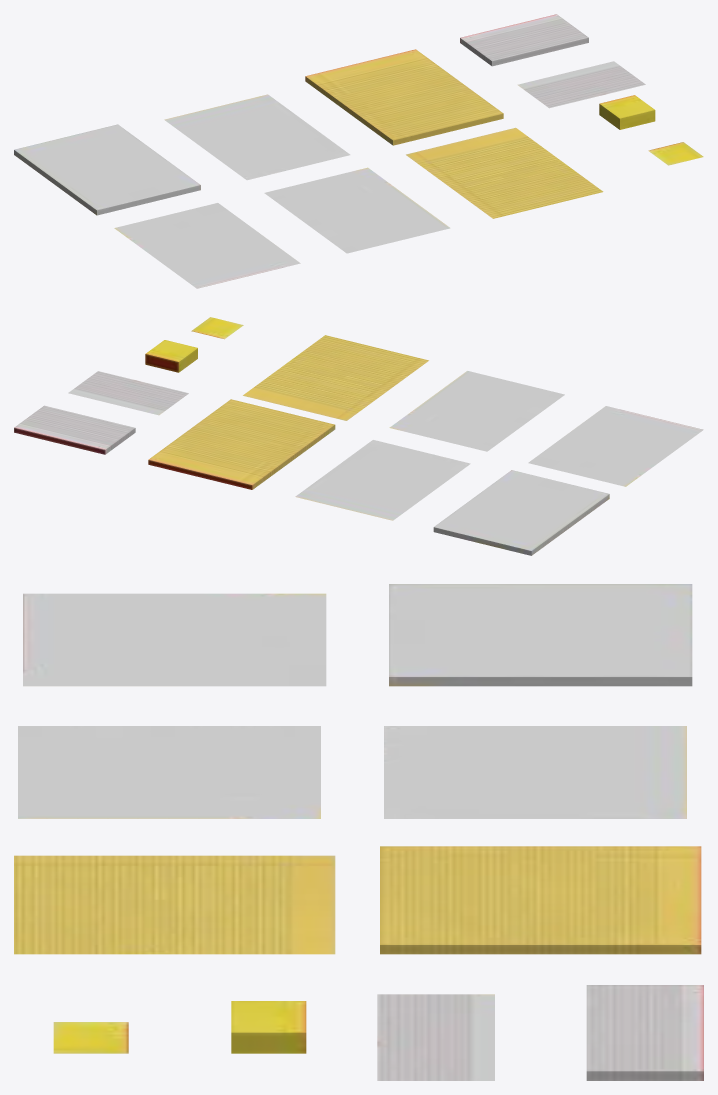
Rendered from notepads.glb.
The picture shows the model from 3 angles, top to bottom: view 1: azimuth 30°, elevation 25°; view 2: azimuth 150°, elevation 25°; view 3: azimuth 270°, elevation 25°; orthographic projection. The views are drawn at different scales.
Visible parts, largest first — view 1: office_notepads_yellow_pad, office_notepads_yellow_sheet, office_notepads_a4_stack, office_notepads_a4_a, office_notepads_a4_b, office_notepads_a4_c, office_notepads_note_stack, office_notepads_note_sheet, office_notepads_sticky_stack, office_notepads_sticky_sheet; view 2: office_notepads_yellow_pad, office_notepads_yellow_sheet, office_notepads_a4_stack, office_notepads_a4_b, office_notepads_a4_c, office_notepads_a4_a, office_notepads_note_stack, office_notepads_note_sheet, office_notepads_sticky_stack, office_notepads_sticky_sheet; view 3: office_notepads_yellow_pad, office_notepads_yellow_sheet, office_notepads_a4_stack, office_notepads_a4_a, office_notepads_a4_b, office_notepads_a4_c, office_notepads_note_stack, office_notepads_note_sheet, office_notepads_sticky_stack, office_notepads_sticky_sheet.
Part boxes in pixels (left/top/right/bottom): office_notepads_yellow_pad: left=305, top=49, right=503, bottom=145; office_notepads_yellow_sheet: left=406, top=127, right=603, bottom=218; office_notepads_a4_stack: left=14, top=124, right=200, bottom=215; office_notepads_a4_a: left=114, top=203, right=300, bottom=288; office_notepads_a4_b: left=164, top=94, right=350, bottom=180; office_notepads_a4_c: left=264, top=167, right=450, bottom=253; office_notepads_note_stack: left=460, top=14, right=588, bottom=66; office_notepads_note_sheet: left=517, top=61, right=645, bottom=108; office_notepads_sticky_stack: left=599, top=95, right=655, bottom=129; office_notepads_sticky_sheet: left=648, top=142, right=703, bottom=165; office_notepads_yellow_pad: left=148, top=399, right=335, bottom=489; office_notepads_yellow_sheet: left=243, top=335, right=428, bottom=420; office_notepads_a4_stack: left=433, top=470, right=609, bottom=555; office_notepads_a4_b: left=295, top=440, right=470, bottom=520; office_notepads_a4_c: left=389, top=371, right=564, bottom=451; office_notepads_a4_a: left=528, top=406, right=703, bottom=486; office_notepads_note_stack: left=14, top=405, right=135, bottom=454; office_notepads_note_sheet: left=68, top=371, right=188, bottom=415; office_notepads_sticky_stack: left=145, top=340, right=197, bottom=372; office_notepads_sticky_sheet: left=191, top=317, right=243, bottom=339; office_notepads_yellow_pad: left=380, top=846, right=701, bottom=954; office_notepads_yellow_sheet: left=14, top=855, right=335, bottom=954; office_notepads_a4_stack: left=389, top=584, right=692, bottom=686; office_notepads_a4_a: left=23, top=593, right=326, bottom=686; office_notepads_a4_b: left=384, top=726, right=686, bottom=818; office_notepads_a4_c: left=18, top=726, right=320, bottom=818; office_notepads_note_stack: left=586, top=985, right=703, bottom=1080; office_notepads_note_sheet: left=377, top=994, right=494, bottom=1080; office_notepads_sticky_stack: left=231, top=1001, right=306, bottom=1053; office_notepads_sticky_sheet: left=53, top=1022, right=128, bottom=1053.
Size of the model in its own units: 1.1 by 0.022 by 0.6598.
1 material, 1 textured.
